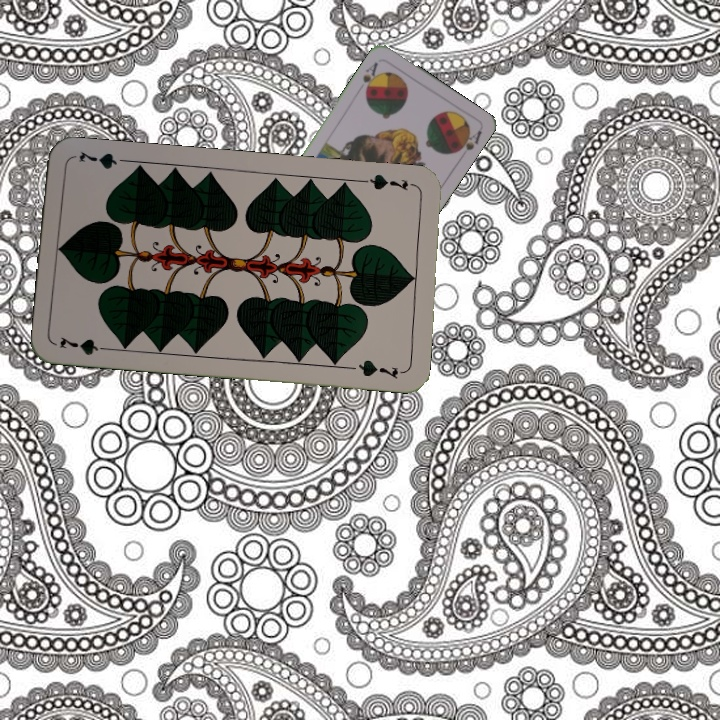G7: (55, 332, 114, 358), (360, 170, 419, 193)
SA: (358, 58, 382, 96)
